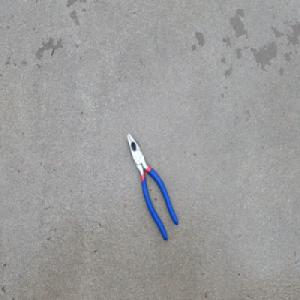Pliers: (126, 130, 179, 242)
